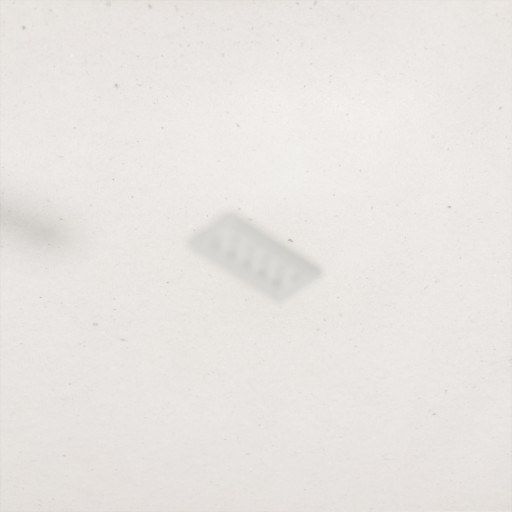lego: (184, 208, 325, 305)
